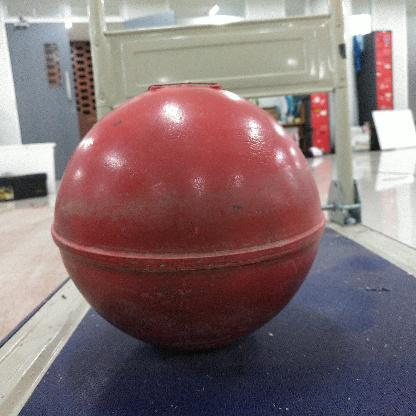red_buoy: (51, 85, 328, 356)
